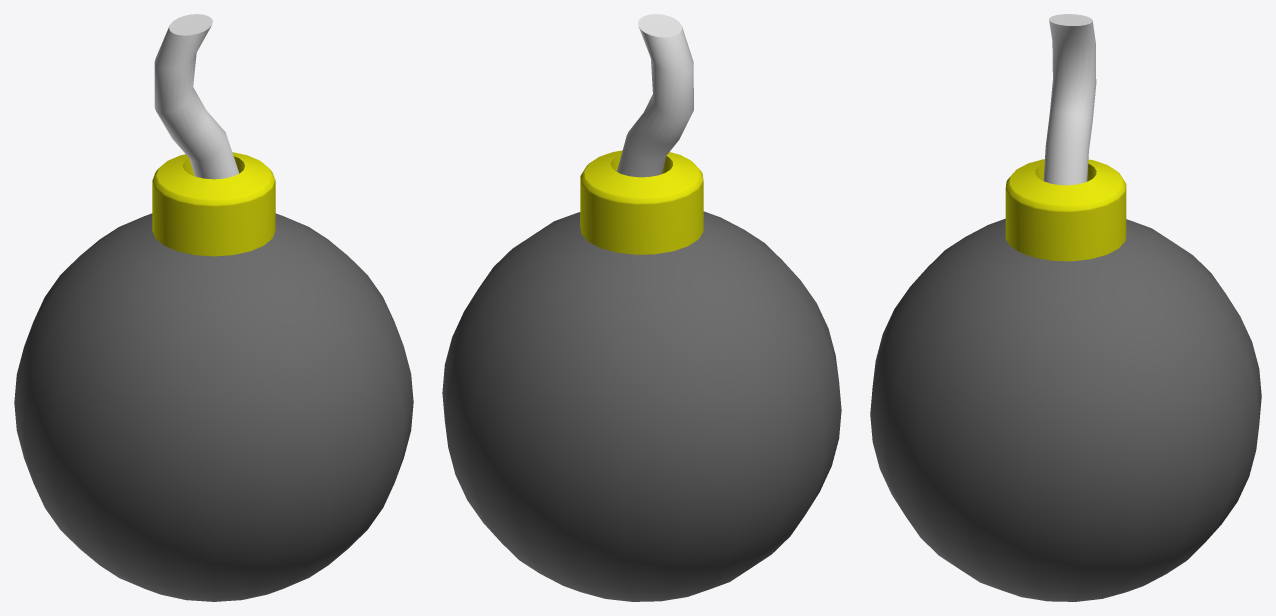
Rendered from Bomb.fbx.
3 views of the same model, side by side, from view 1: azimuth 30°, elevation 25°; view 2: azimuth 150°, elevation 25°; view 3: azimuth 270°, elevation 25° (orthographic).
Visible parts, largest first — view 1: Bomb; view 2: Bomb; view 3: Bomb.
Part boxes in pixels (x1,y1,x2,y2): Bomb: (14, 14, 413, 601); Bomb: (442, 14, 841, 601); Bomb: (870, 14, 1261, 601).
Bounding box in the file's own units: 20.74 × 32.57 × 20.74.
